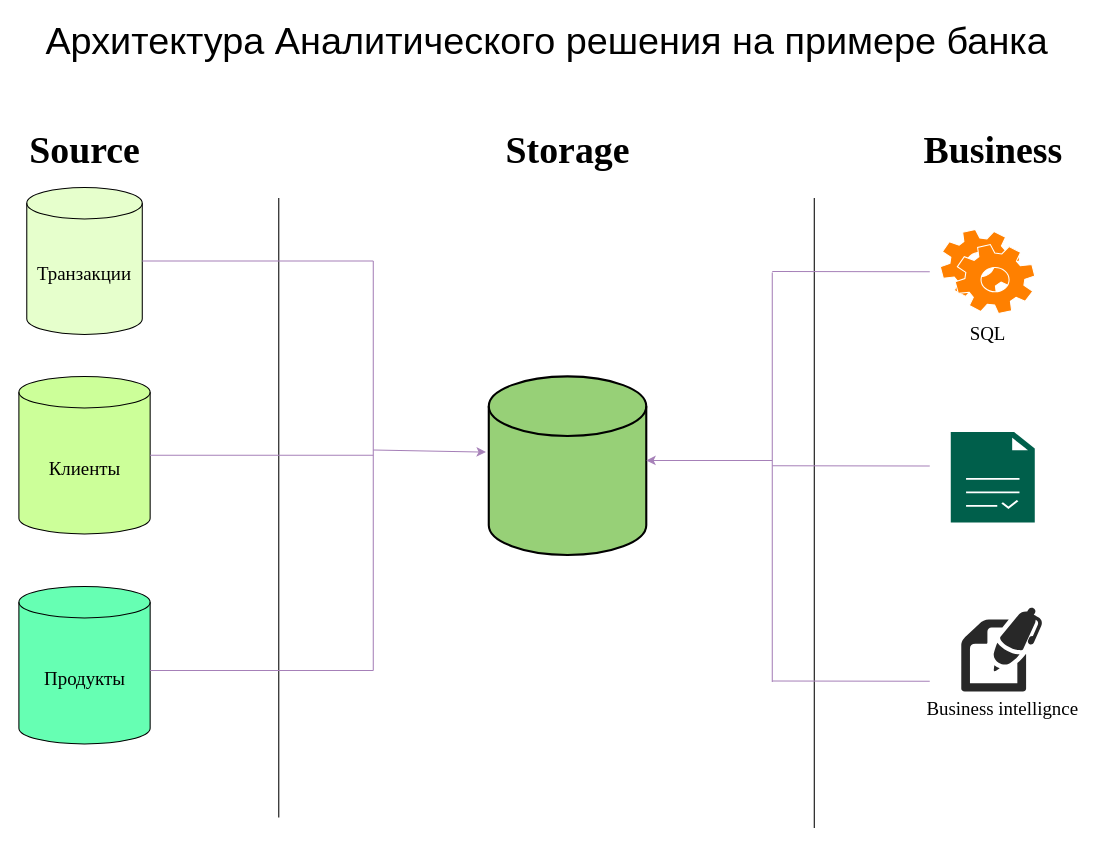
This 1095x847 diagram has some shape labels left out. The shapes that lost their labels are listed below. From the top down, each one's centre as x and y in pixels, then its label:
(x=567, y=465): DWH
(x=992, y=477): Excel-отчеты
